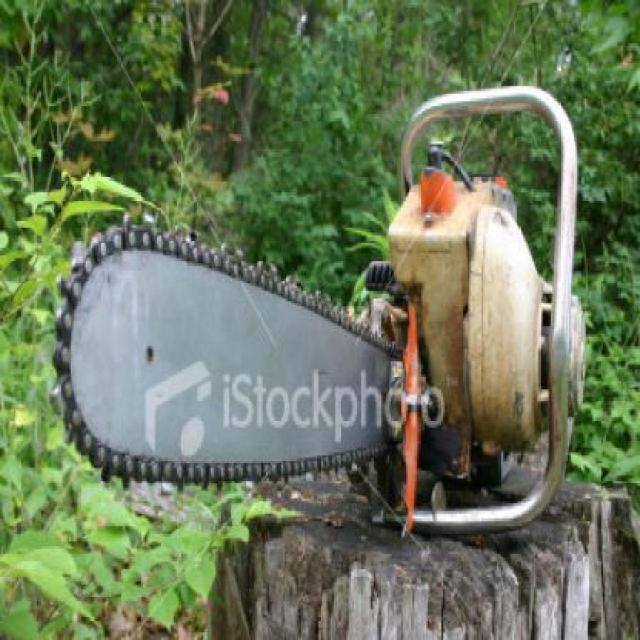Chainsaw: (50, 83, 588, 540)
